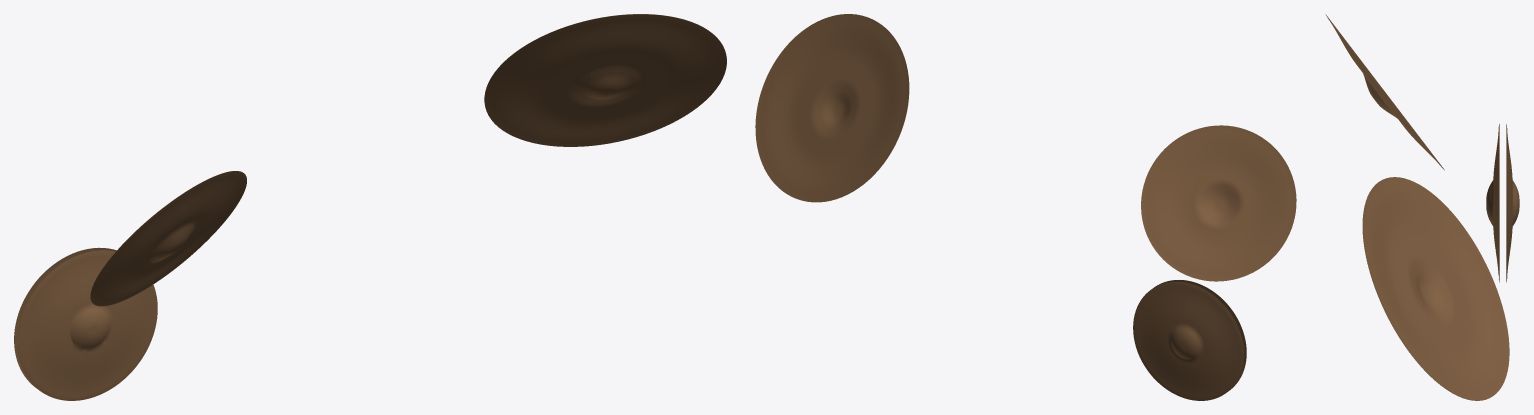
3 renders of one model, left to right at view 1: azimuth 30°, elevation 25°; view 2: azimuth 150°, elevation 25°; view 3: azimuth 270°, elevation 25°, orthographic. The views are drawn at different scales.
Parts seen in each view (by area): view 1: Object_17.001, Object_17, Object_17.002, Object_17.003; view 2: Object_17; view 3: Object_17, Object_17.002.
Part boxes in pixels (left/top/right/bottom): Object_17.001: left=484, top=14, right=726, bottom=146; Object_17: left=14, top=14, right=719, bottom=400; Object_17.002: left=90, top=171, right=246, bottom=306; Object_17.003: left=17, top=251, right=96, bottom=396; Object_17: left=755, top=14, right=1296, bottom=400; Object_17: left=1325, top=14, right=1519, bottom=400; Object_17.002: left=1326, top=15, right=1443, bottom=169.
Bounding box in the file's own units: 2445 × 1123 × 632.
